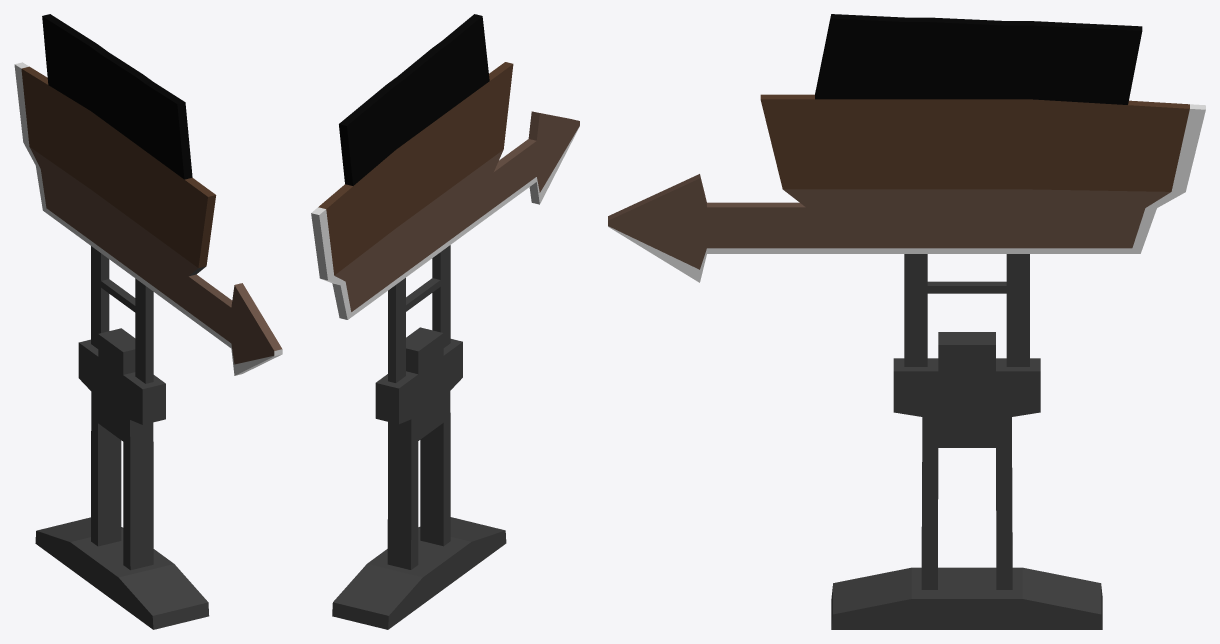
File: Advertising.fbx
3 renders of one model, left to right at view 1: azimuth 30°, elevation 25°; view 2: azimuth 150°, elevation 25°; view 3: azimuth 270°, elevation 25°, orthographic. The views are drawn at different scales.
Visible parts, largest first — view 1: Advertising banner; view 2: Advertising banner; view 3: Advertising banner.
Part boxes in pixels (x1,y1,x2,y2): Advertising banner: (14,14,282,629); Advertising banner: (311,14,579,629); Advertising banner: (608,14,1205,629).
Bounding box in the file's own units: 0.7435 × 6.62 × 6.
